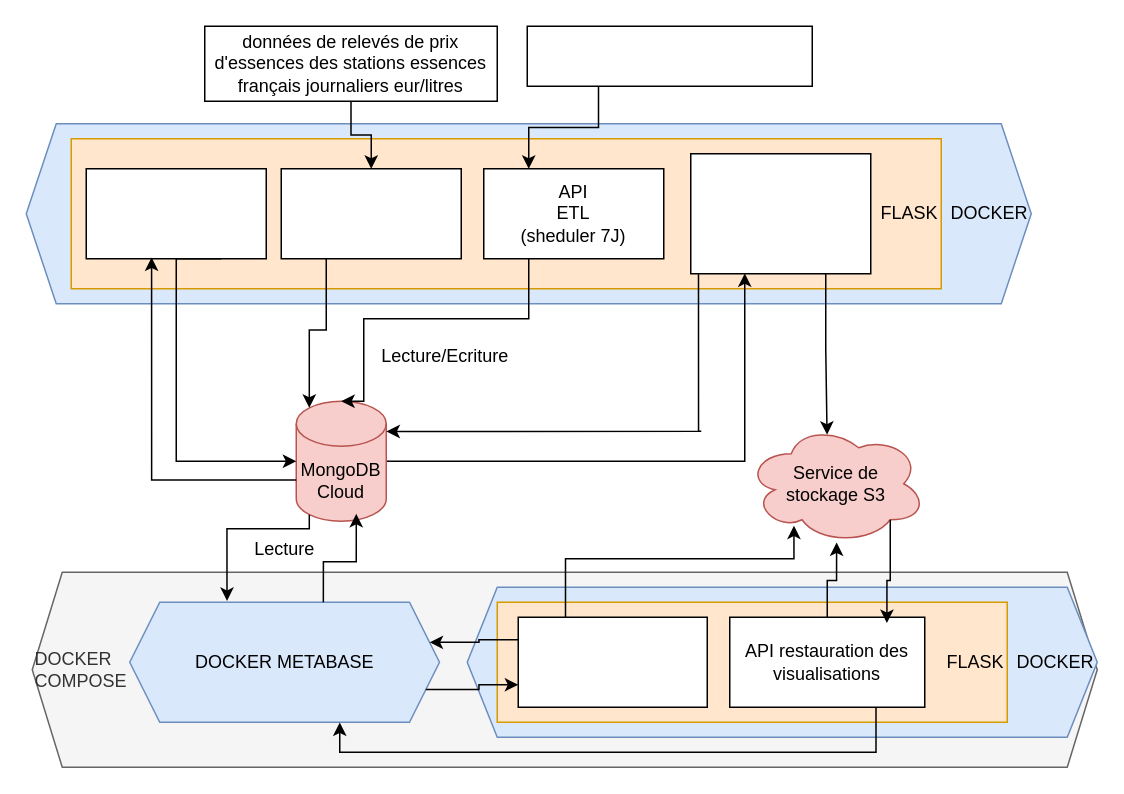
The diagram is 1124 pixels wide and 794 high, and some of its shapes have lost their labels. Here are the shapes that lost their labels. From the top down, the box of each, then its label:
(526, 25, 812, 86): données officielles prix essences hebdomadaire français eur/litres
(85, 167, 266, 259): API Pipeline de dénormalisation
(280, 167, 461, 259): API ETL (scheduler 1J)
(689, 152, 871, 274): API Sauvegarde et restauration de bases de données (scheduler 14J)
(517, 616, 707, 707): API Sauvegarde des visualisations (scheduler 14J)
